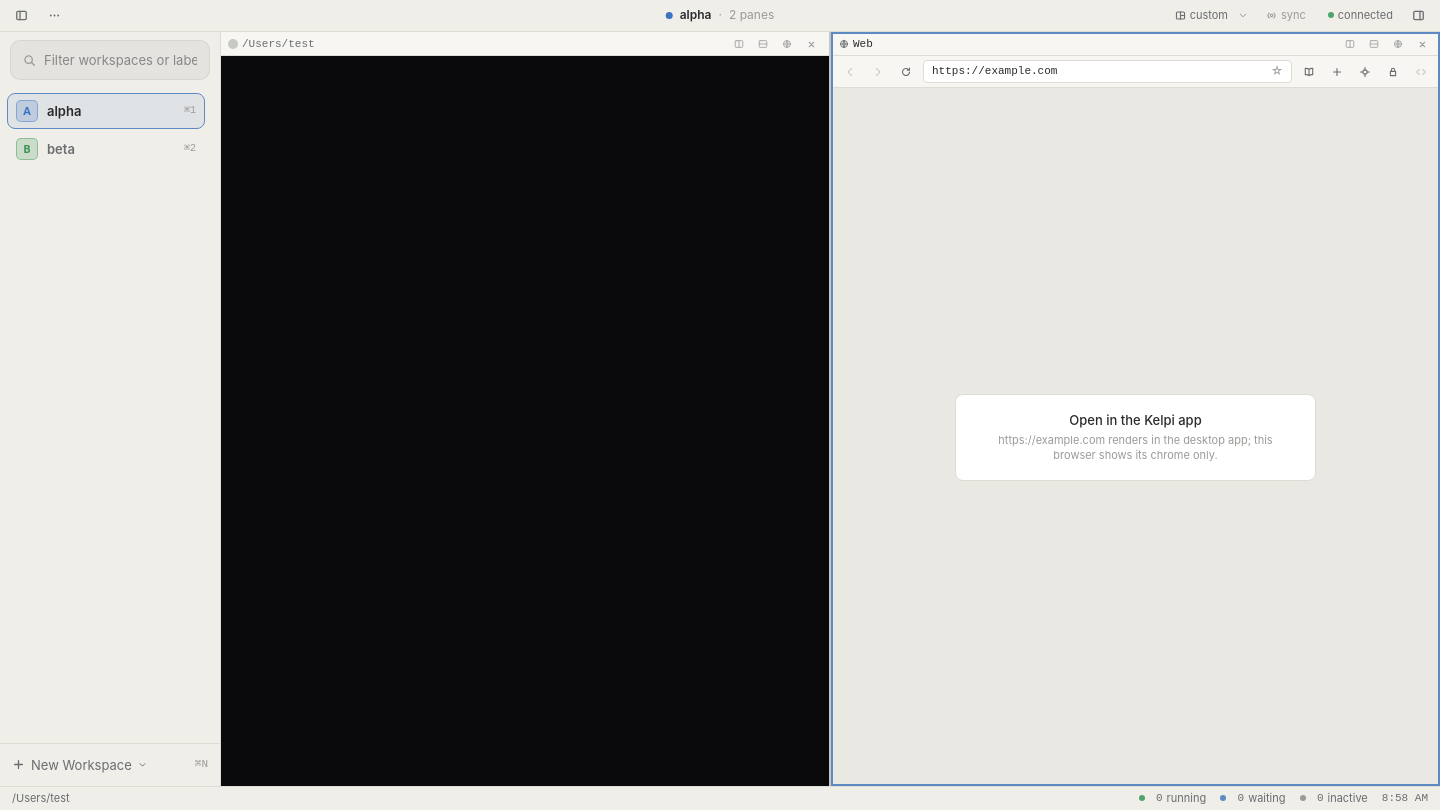
Test case: modals park a live web pane (§H1) › the popups H1 never enrolled (§N26) › the sidebar's DELETE confirmation parks it — the frame the owner photographed
Right-click the option with test id "workspace-row" showing "A alpha ⌘1" at (106, 111), box [8,94,204,128]
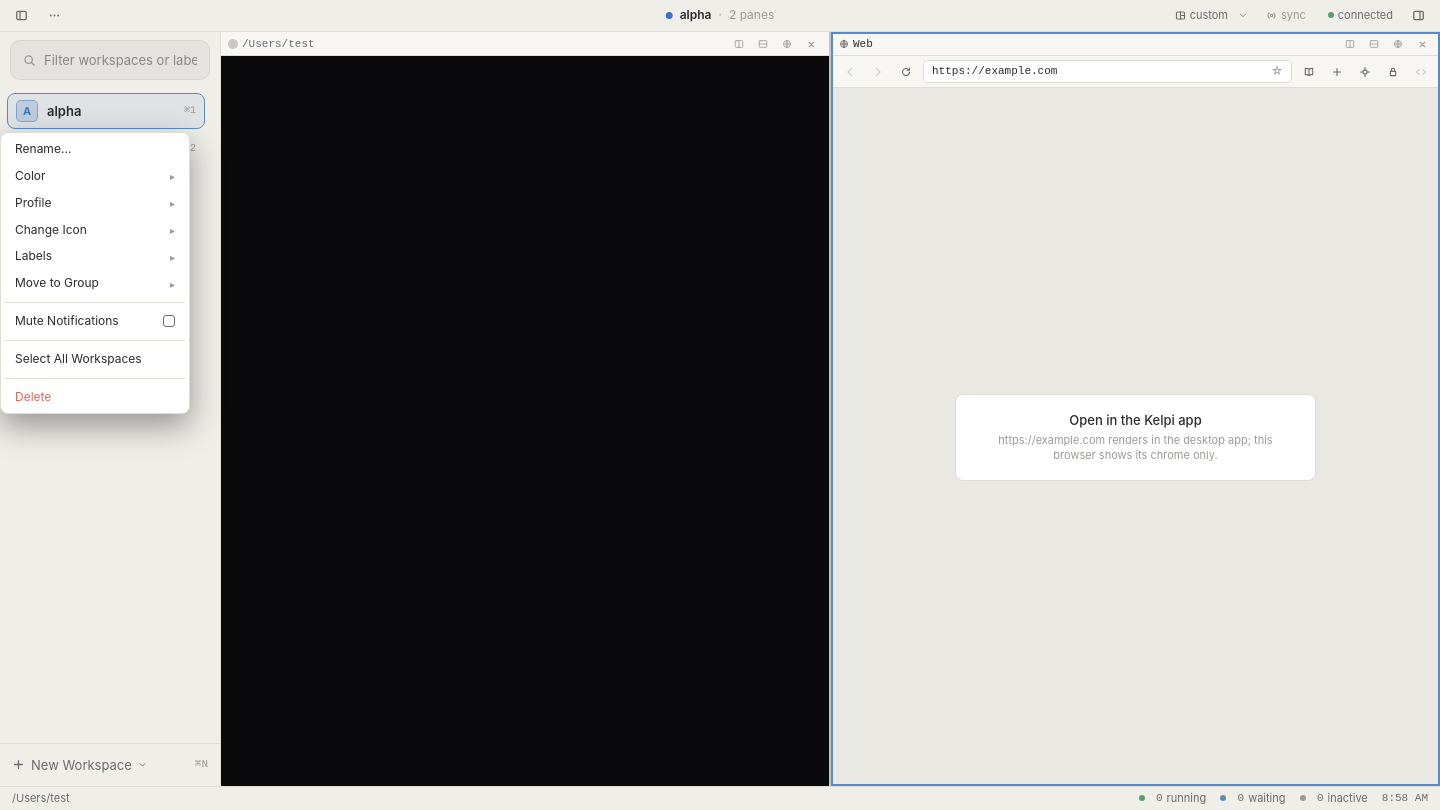
Check: the menu item "Delete" is shown
Click the menu item "Delete" at (95, 397), box [5,385,185,409]
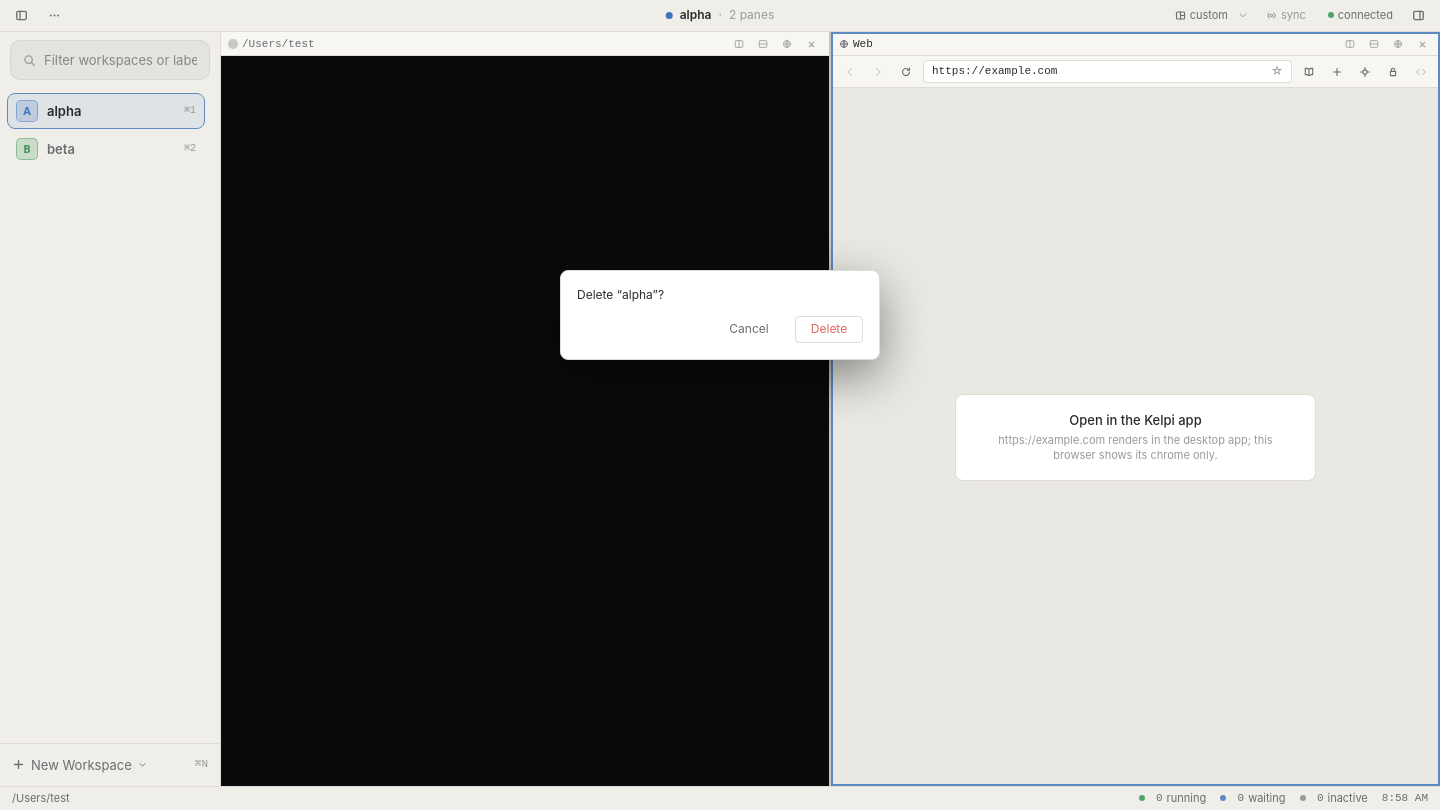
Check: the menu with test id "context-menu" is gone
Check: the dialog with test id "confirm-dialog" is shown, box [560,270,880,360]
Click the button "Cancel" at (749, 329), box [715,316,783,343]
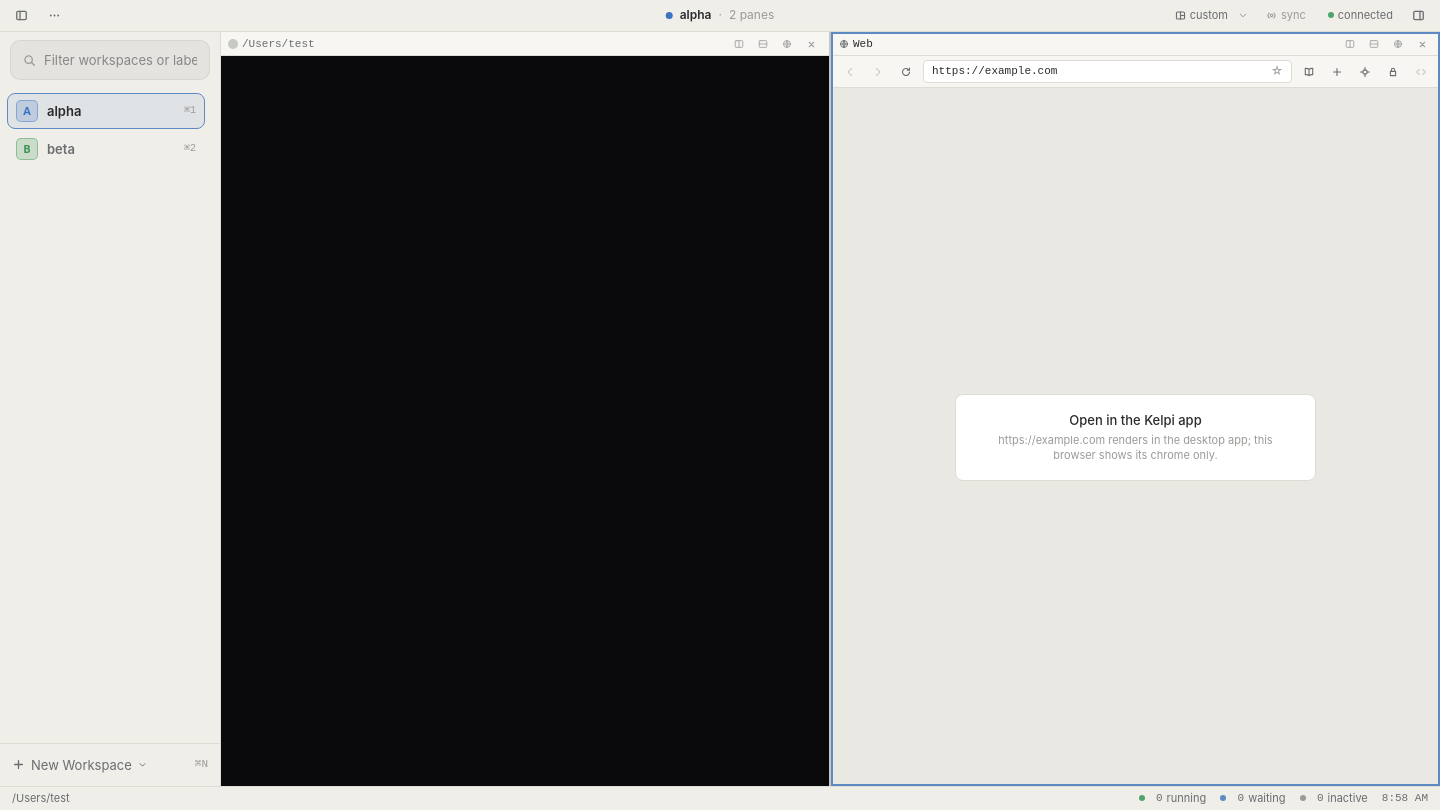
Check: the dialog with test id "confirm-dialog" is gone
